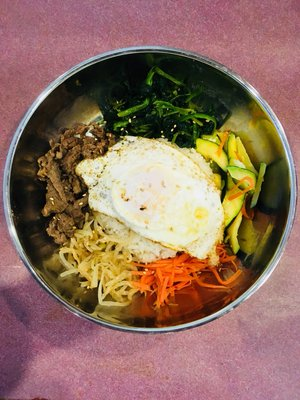sushi: (3, 40, 299, 334)
